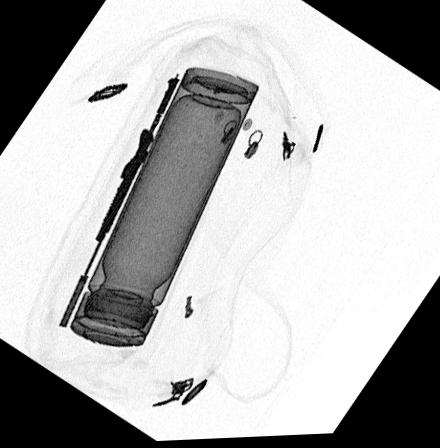Gun: (55, 75, 183, 327)
